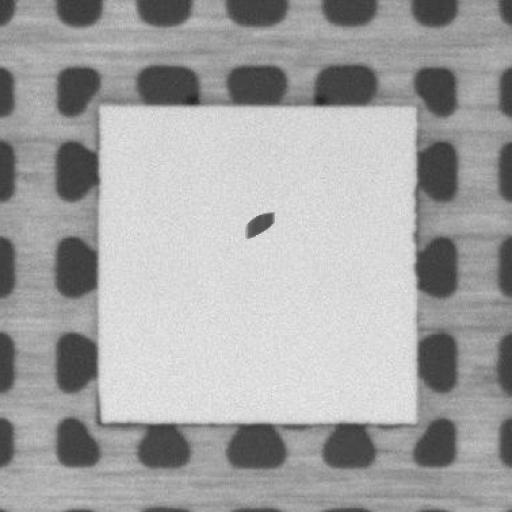DIE_INK: (234, 206, 280, 241)
